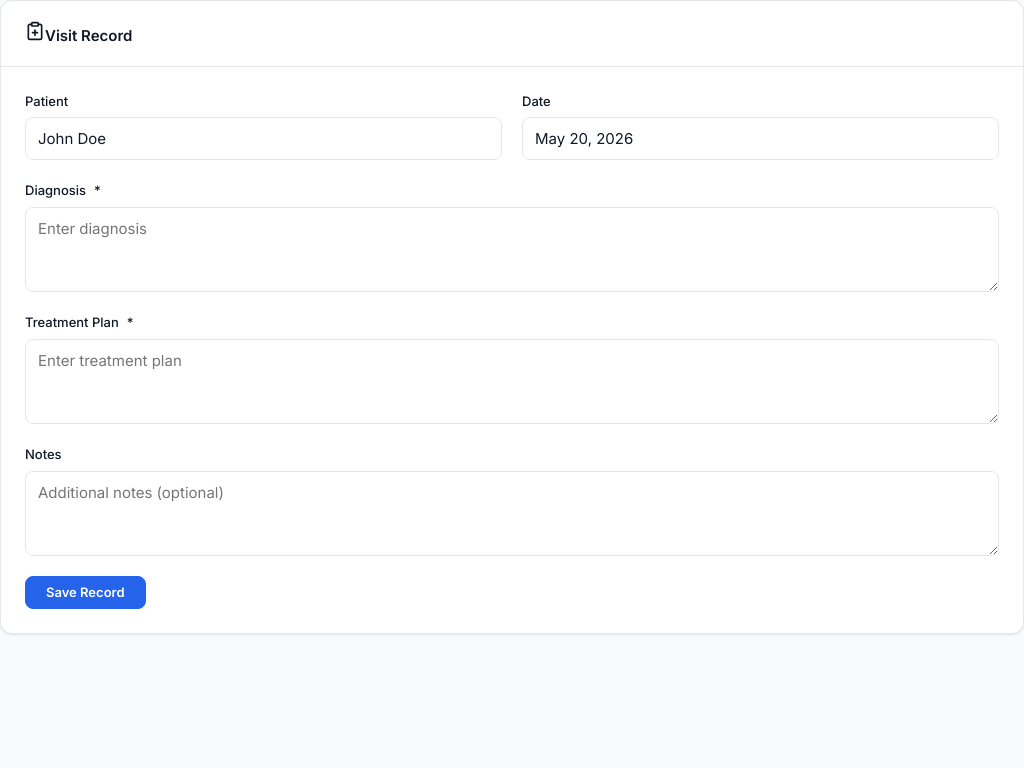
Test: MedicalRecordForm › shows validation error when diagnosis is missing
Type "Some plan" into the text box labelled "Treatment Plan *" at (512, 381), box [25,339,999,424]
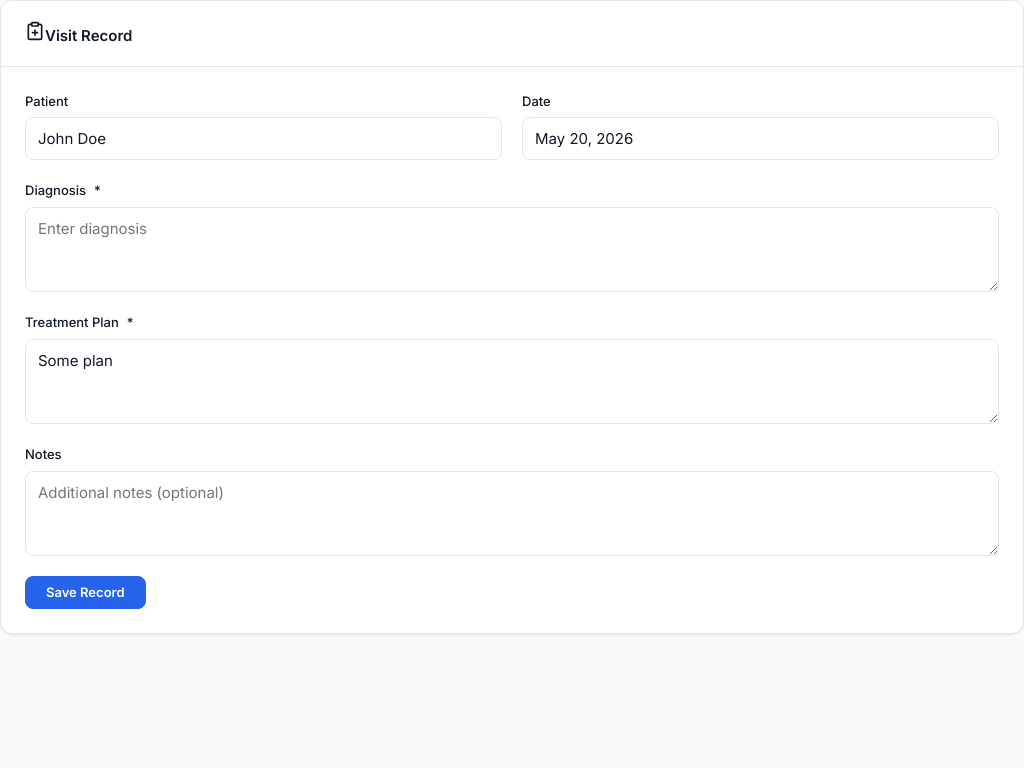
Click the button "Save Record" at (85, 592), box [25,576,146,609]
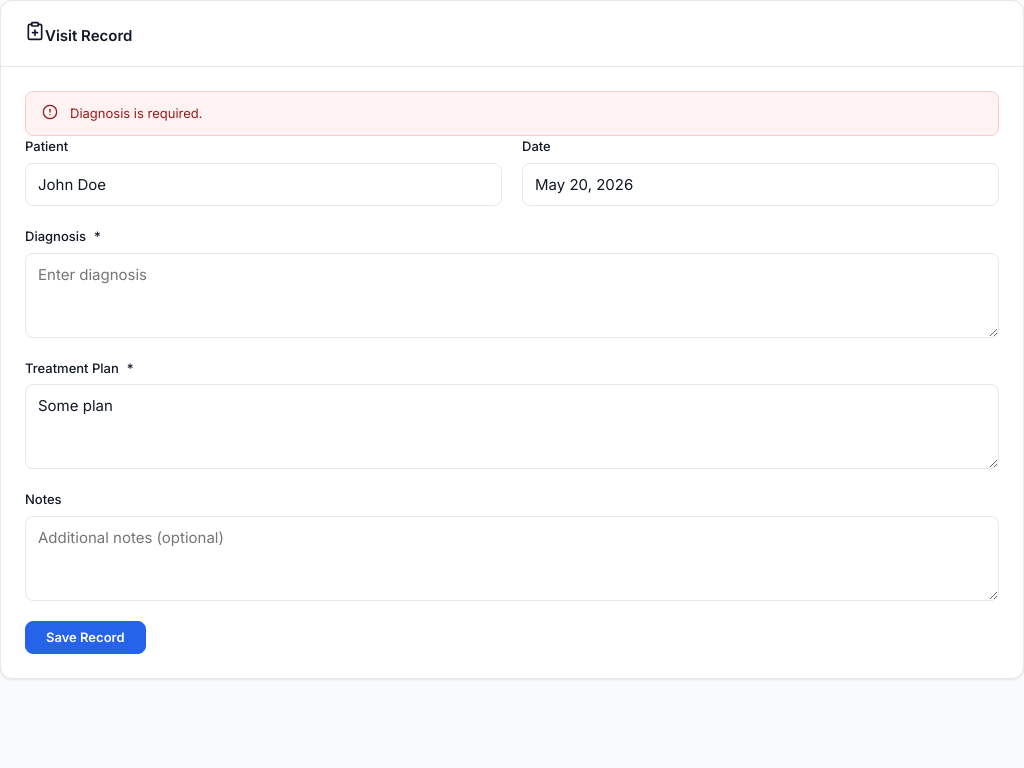
expect the text "Diagnosis is required." is shown: met, box [25,90,999,136]
